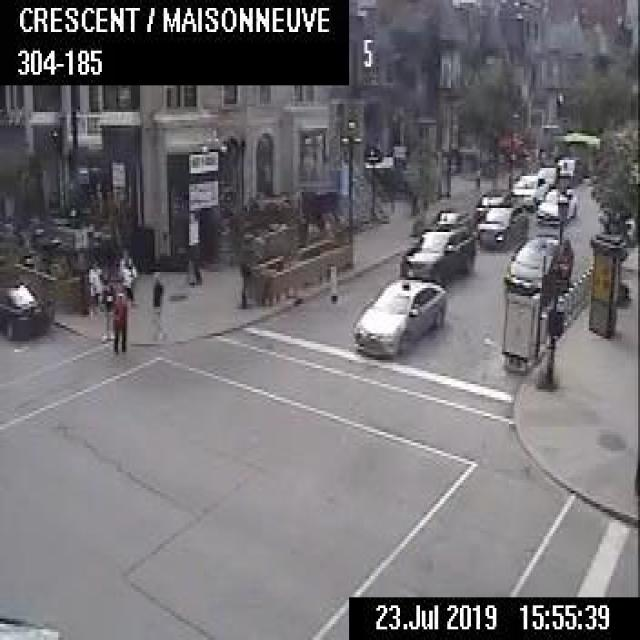pedestrian: (150, 269, 164, 339), (86, 257, 102, 318), (112, 290, 126, 352), (100, 280, 114, 341), (118, 256, 134, 306), (118, 247, 136, 282), (188, 242, 201, 284)
vehicle: (351, 277, 446, 357), (502, 232, 572, 294), (401, 227, 473, 282), (0, 274, 53, 338), (476, 204, 526, 244), (473, 187, 521, 222), (536, 187, 576, 224), (0, 614, 60, 638), (510, 173, 548, 200), (435, 209, 475, 231), (535, 164, 565, 190), (555, 154, 581, 182)
